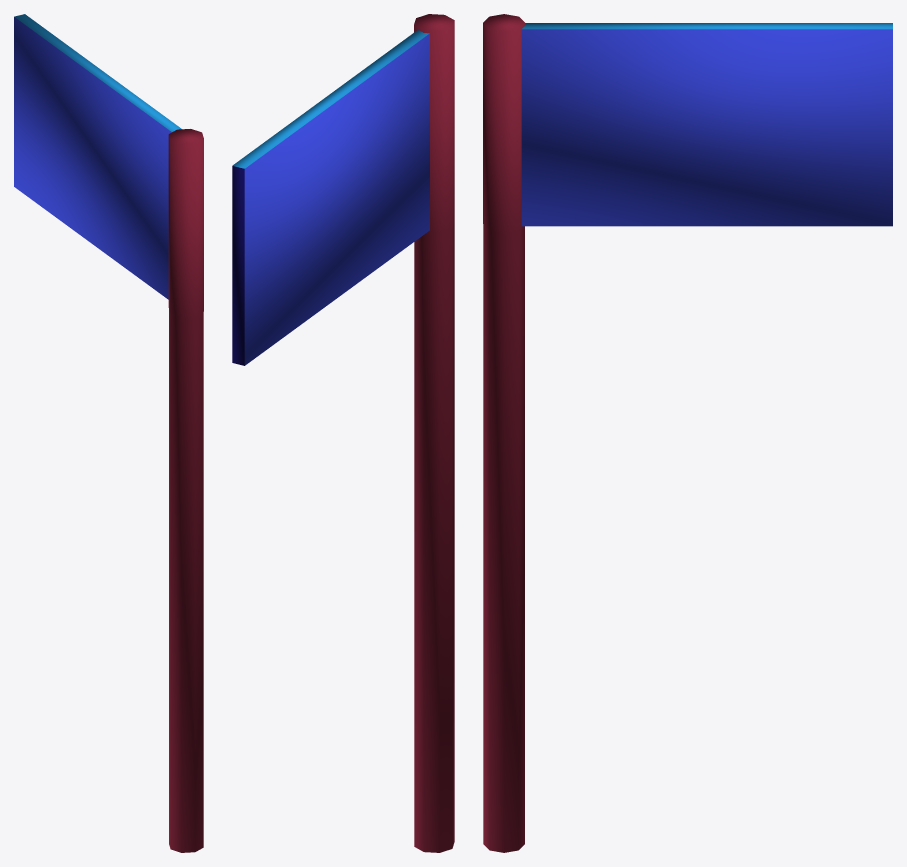
File: Flag.fbx
3 renders of one model, left to right at view 1: azimuth 30°, elevation 25°; view 2: azimuth 150°, elevation 25°; view 3: azimuth 270°, elevation 25°, orthographic. The views are drawn at different scales.
Parts seen in each view (by area): view 1: Plane; view 2: Plane; view 3: Plane.
Boxes of the visible parts, left/top/right/bottom form: Plane: left=14, top=14, right=203, bottom=852; Plane: left=232, top=14, right=454, bottom=852; Plane: left=483, top=14, right=892, bottom=852.
Size of the model in its own units: 590 by 60.86 by 1304.
